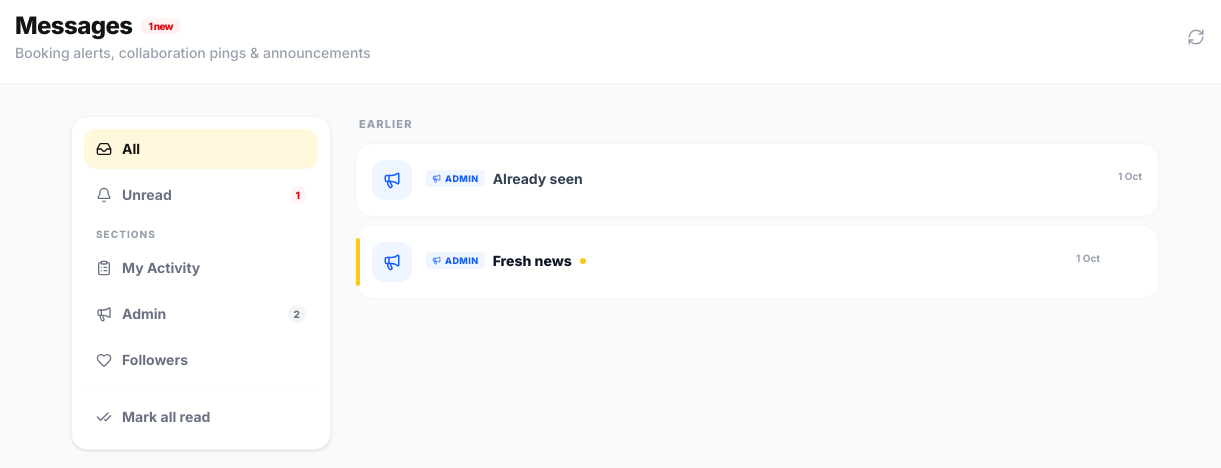
Test case: Messages — unread badge matches what can be opened › the Unread tab never lists a read message, even if the API ignores the filter
This screenshot has width=1221, height=468.
Expected: the text "Already seen" is shown, [493, 168, 583, 188]
Step 1. Click the button "Unread 1" → [201, 195], box [84, 175, 318, 215]
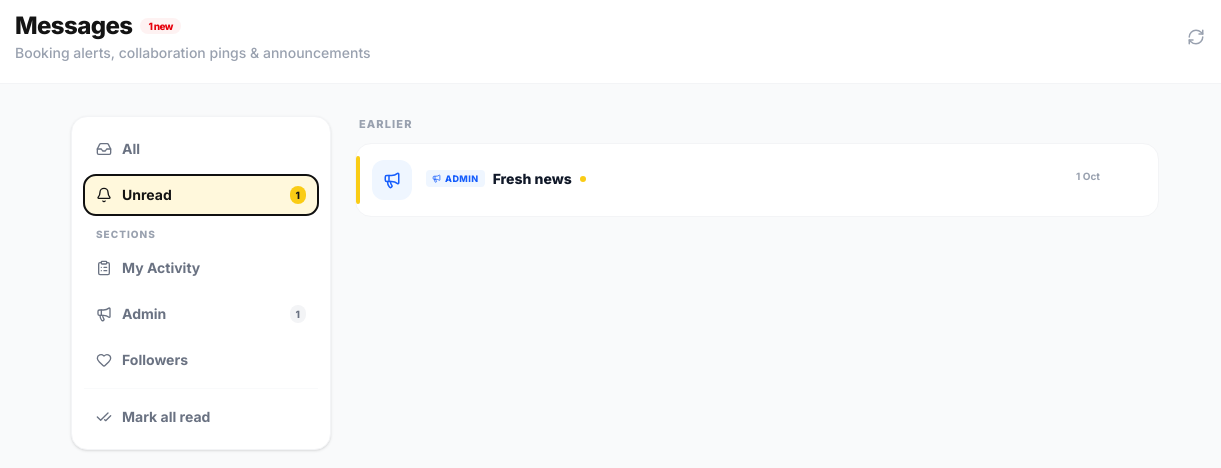
Expected: the text "Fresh news" is shown, [493, 168, 572, 188]
Expected: the button "Already seen" is gone
